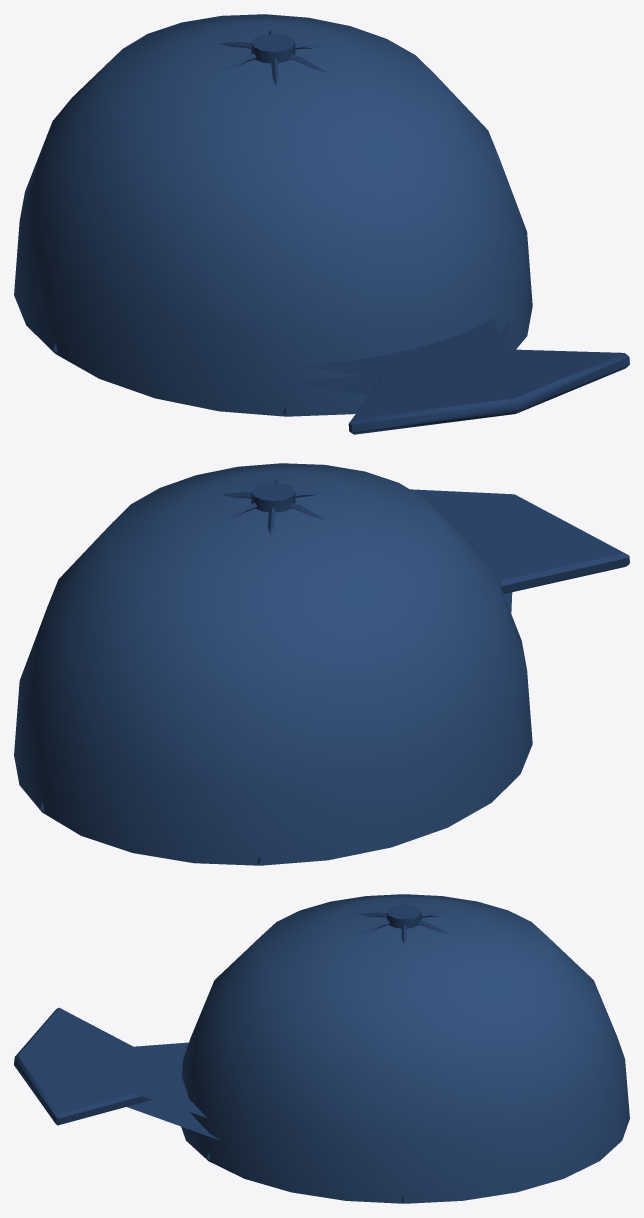
File: cap.glb
3 views of the same model, one above another, from view 1: azimuth 30°, elevation 25°; view 2: azimuth 150°, elevation 25°; view 3: azimuth 270°, elevation 25° (orthographic). The views are drawn at different scales.
Parts seen in each view (by area): view 1: cap; view 2: cap; view 3: cap.
Part boxes in pixels (x1,y1,x2,y2): cap: (14, 14, 629, 434); cap: (14, 463, 629, 865); cap: (14, 894, 629, 1203).
Size of the model in its own units: 0.1855 by 0.1036 by 0.28.
